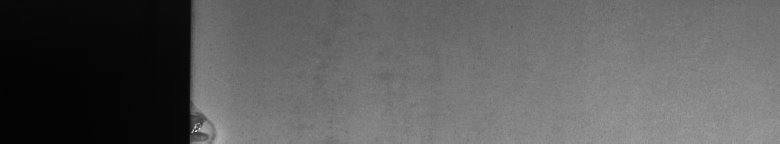hb: (200, 106, 223, 136)
